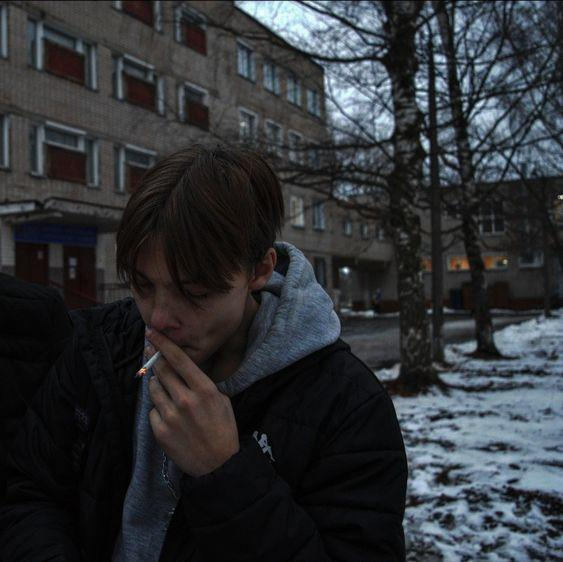cigarette: (135, 351, 161, 377)
